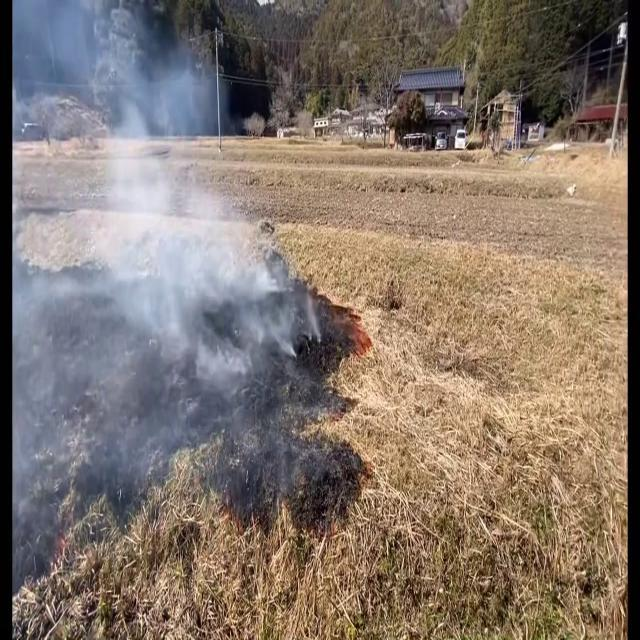Smoke: (20, 8, 312, 527)
